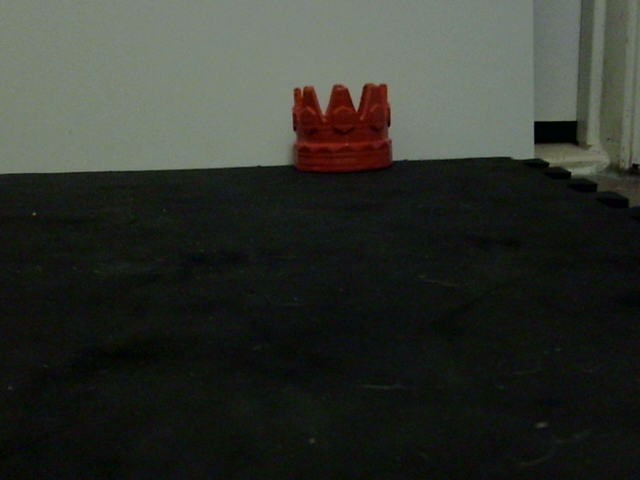crown: (289, 82, 395, 174)
